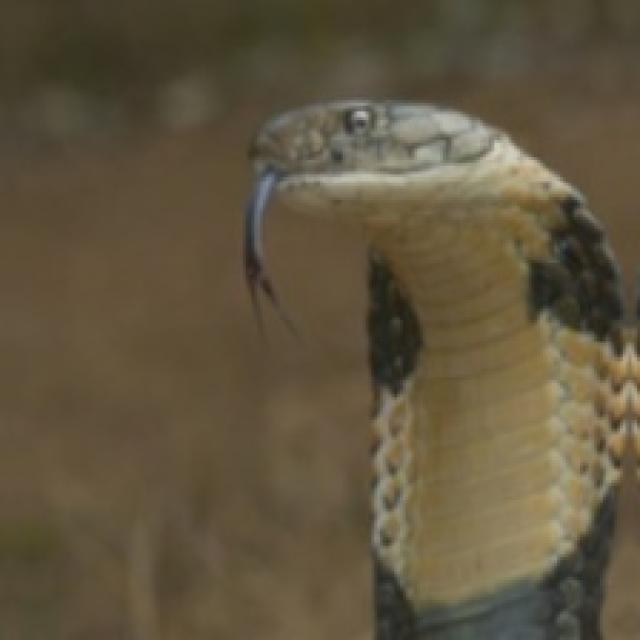king cobra: (246, 100, 637, 637)
